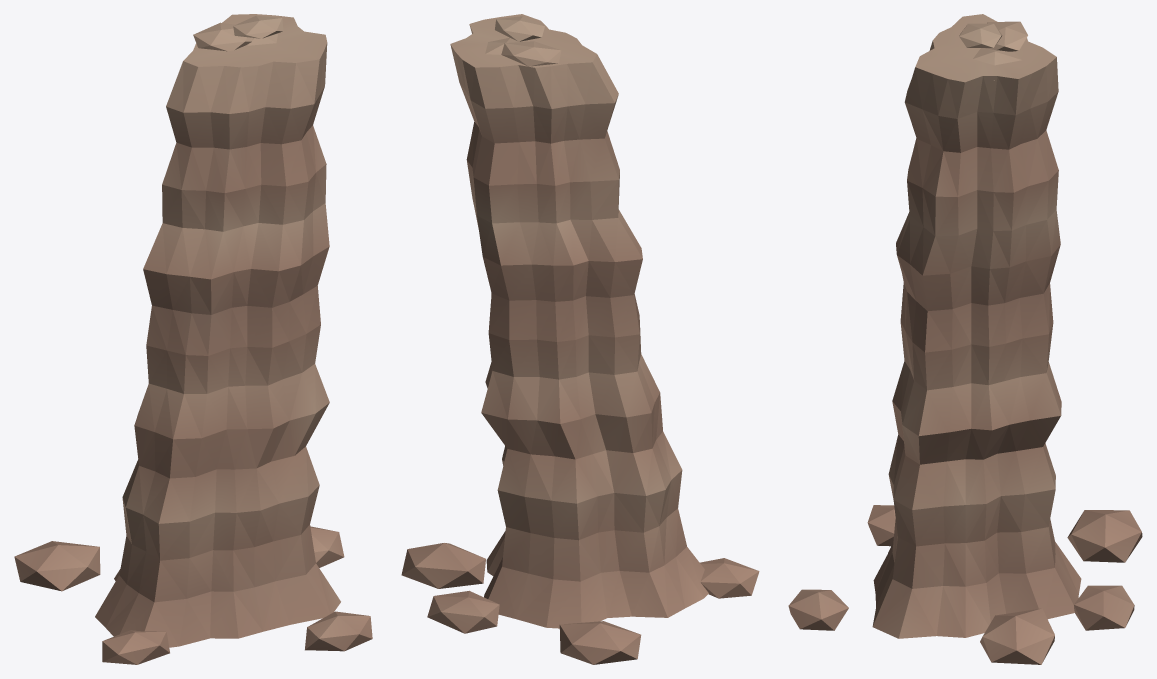
Rendered from rock_spire_b.glb.
3 views of the same model, side by side, from view 1: azimuth 30°, elevation 25°; view 2: azimuth 150°, elevation 25°; view 3: azimuth 270°, elevation 25° (orthographic). The views are drawn at different scales.
Visible parts, largest first — view 1: rock_spire_b; view 2: rock_spire_b; view 3: rock_spire_b.
Part boxes in pixels (x1,y1,x2,y2): rock_spire_b: [14, 14, 372, 664]; rock_spire_b: [401, 14, 759, 664]; rock_spire_b: [788, 14, 1142, 664].
Bounding box in the file's own units: 4.89 × 9.05 × 4.89.
